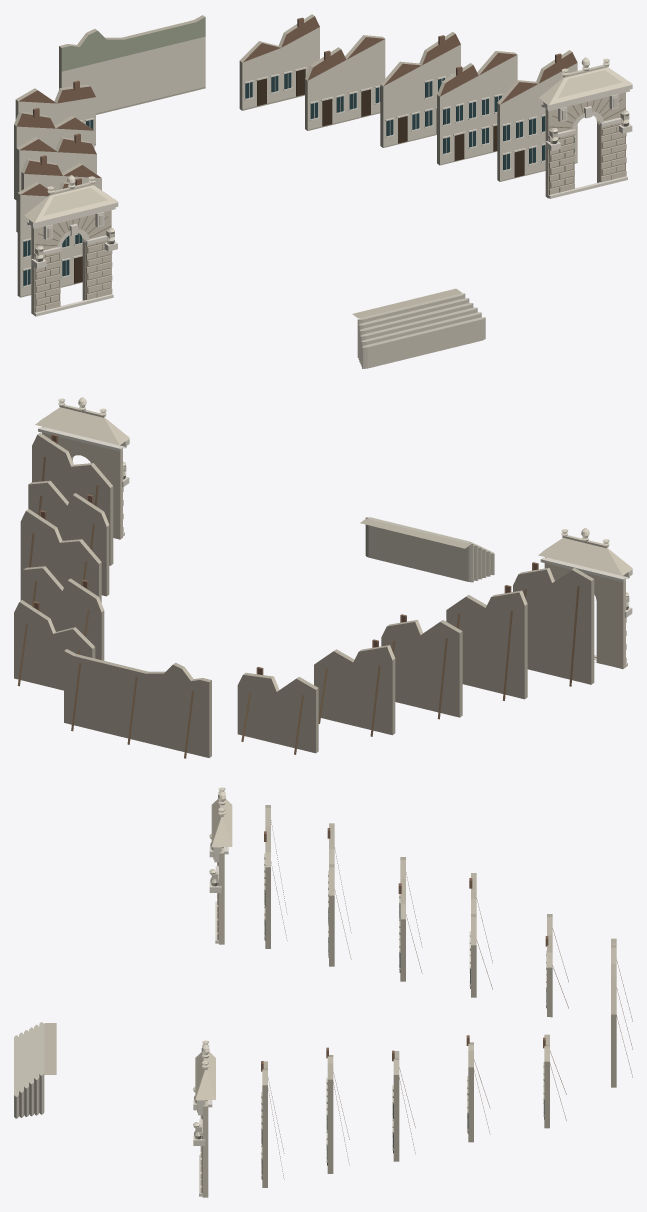
The picture shows the model from 3 angles, top to bottom: view 1: azimuth 30°, elevation 25°; view 2: azimuth 150°, elevation 25°; view 3: azimuth 270°, elevation 25°; orthographic projection. The views are drawn at different scales.
Parts seen in each view (by area): view 1: XY15 线法墙 Xianfa Qiang; view 2: XY15 线法墙 Xianfa Qiang; view 3: XY15 线法墙 Xianfa Qiang.
Part boxes in pixels (box(x1,y1,x2,y2)): XY15 线法墙 Xianfa Qiang: box(14, 14, 632, 368); XY15 线法墙 Xianfa Qiang: box(14, 397, 632, 758); XY15 线法墙 Xianfa Qiang: box(14, 787, 632, 1197).
Bounding box in the file's own units: 55.55 × 14.96 × 49.15.
